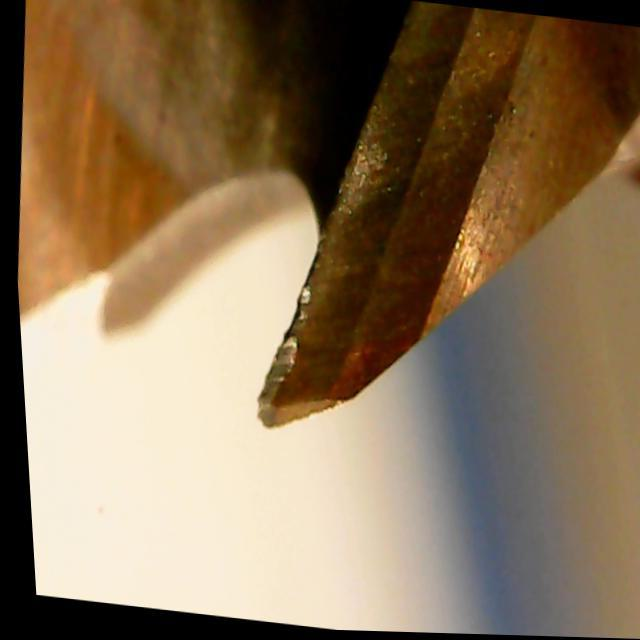Tool-wear-class-1: (208, 171, 419, 459)
